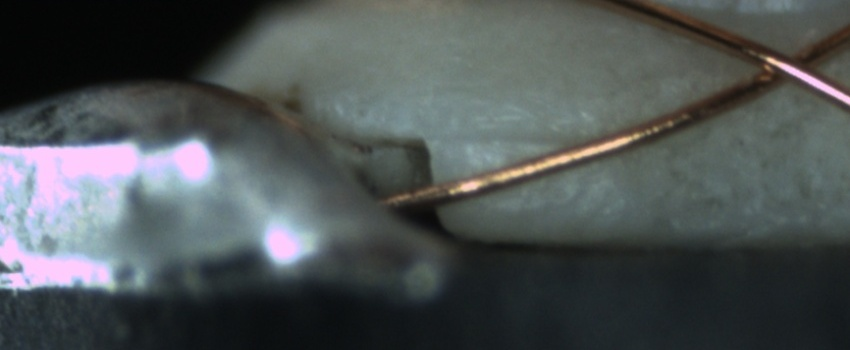CL: (738, 33, 838, 95)
DL: (428, 108, 584, 168)
